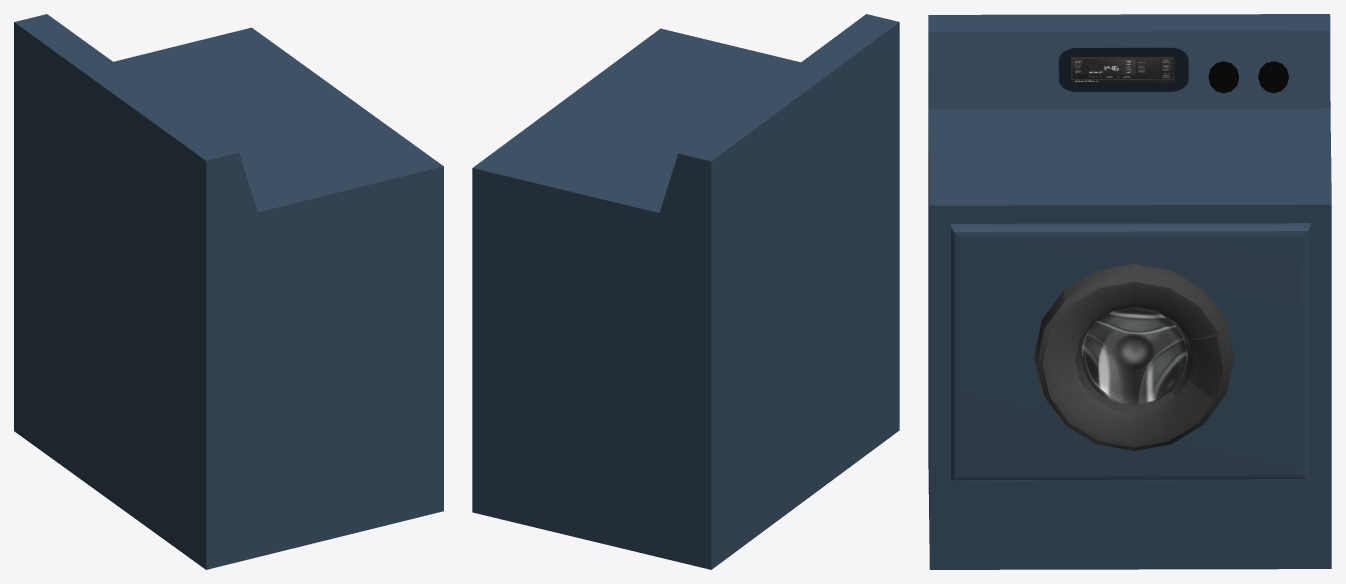
File: washing_machine.glb
3 renders of one model, left to right at view 1: azimuth 30°, elevation 25°; view 2: azimuth 150°, elevation 25°; view 3: azimuth 270°, elevation 25°, orthographic. The views are drawn at different scales.
Parts seen in each view (by area): view 1: polySurface87; view 2: polySurface87; view 3: polySurface87.
Part boxes in pixels (<box>): polySurface87: <box>14,14,443,569</box>; polySurface87: <box>472,14,899,569</box>; polySurface87: <box>928,14,1331,569</box>.
Bounding box in the file's own units: 0.6546 × 0.916 × 0.7754.
1 material, 1 textured.
